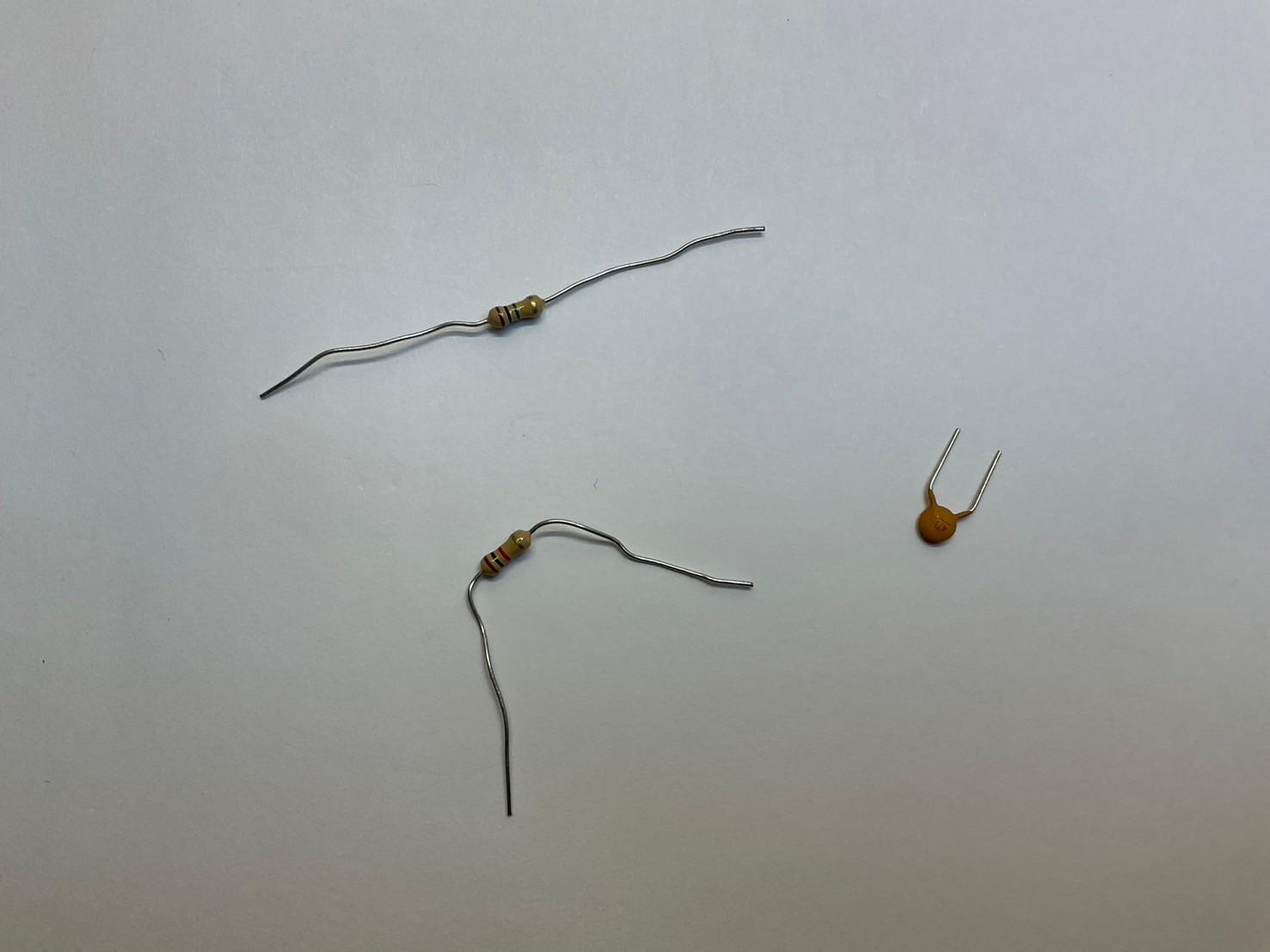resistor: (475, 528, 532, 578), (487, 293, 546, 332)
